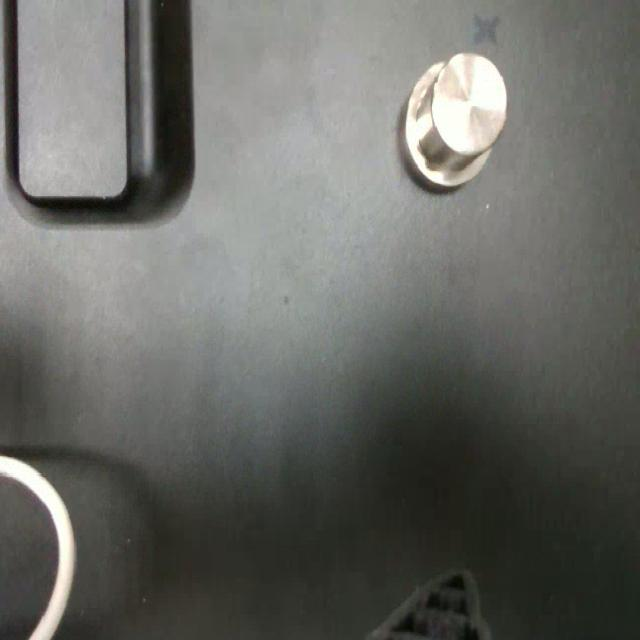sensor: (402, 51, 508, 189)
